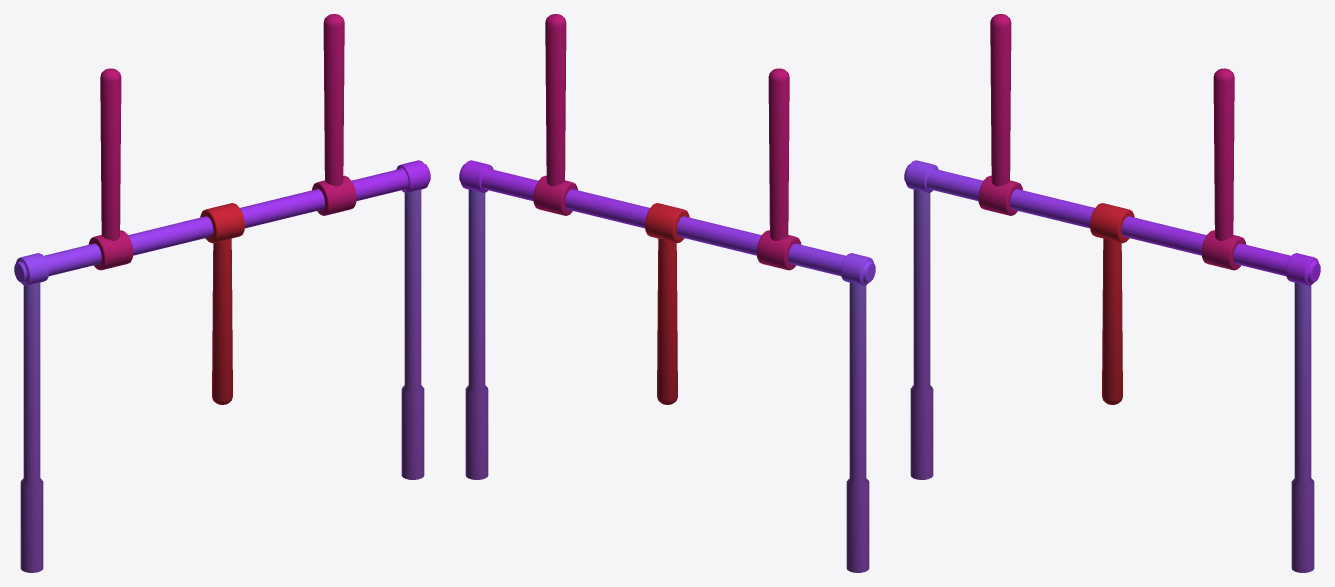
The model's file is Obs_12.fbx.
3 renders of one model, left to right at view 1: azimuth 30°, elevation 25°; view 2: azimuth 150°, elevation 25°; view 3: azimuth 330°, elevation 25°, orthographic.
Visible parts, largest first — view 1: Obs_12_Base, Obs_12_Column_01, Obs_12_Column_03, Obs_12_Column_02; view 2: Obs_12_Base, Obs_12_Column_01, Obs_12_Column_03, Obs_12_Column_02; view 3: Obs_12_Base, Obs_12_Column_03, Obs_12_Column_01, Obs_12_Column_02.
Part boxes in pixels (left/top/right/bottom): Obs_12_Base: left=14, top=160, right=430, bottom=572; Obs_12_Column_01: left=312, top=14, right=356, bottom=215; Obs_12_Column_03: left=88, top=68, right=133, bottom=270; Obs_12_Column_02: left=200, top=203, right=244, bottom=404; Obs_12_Base: left=459, top=160, right=875, bottom=572; Obs_12_Column_01: left=533, top=14, right=577, bottom=215; Obs_12_Column_03: left=756, top=68, right=801, bottom=270; Obs_12_Column_02: left=645, top=203, right=689, bottom=404; Obs_12_Base: left=904, top=160, right=1320, bottom=572; Obs_12_Column_03: left=978, top=14, right=1022, bottom=215; Obs_12_Column_01: left=1201, top=68, right=1246, bottom=270; Obs_12_Column_02: left=1090, top=203, right=1134, bottom=404.
Bounding box in the file's own units: 4.97 × 5.58 × 0.3659.
